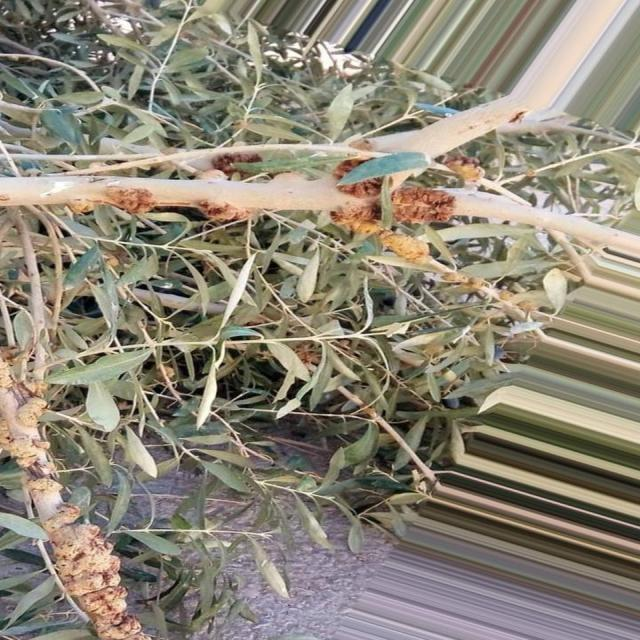Tuberculosis: (43, 503, 154, 639), (0, 353, 62, 503), (330, 201, 443, 269), (392, 187, 458, 225), (107, 186, 161, 215), (200, 203, 257, 221)
